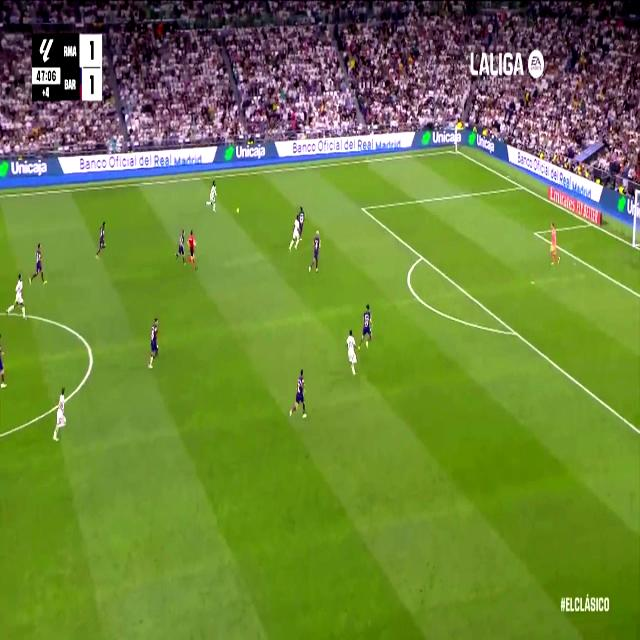bigarea_top_inner: (359, 200, 366, 216)
bigarea_top_outter: (518, 179, 526, 193)
bottom_arc_area_intersection: (510, 321, 520, 342)
corner: (451, 144, 460, 156)
smallarea_top_inner: (532, 225, 538, 239)
top_arc_area_intersection: (418, 248, 426, 264)
